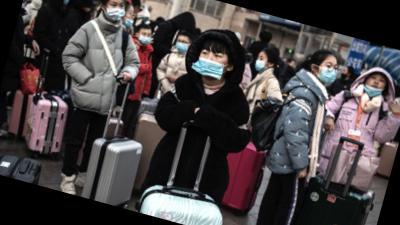mask_weared_incorrect: (364, 73, 387, 98), (121, 7, 139, 30)
with_mask: (194, 47, 232, 82), (315, 59, 341, 86), (252, 53, 270, 76), (173, 37, 190, 55), (138, 30, 153, 46)
